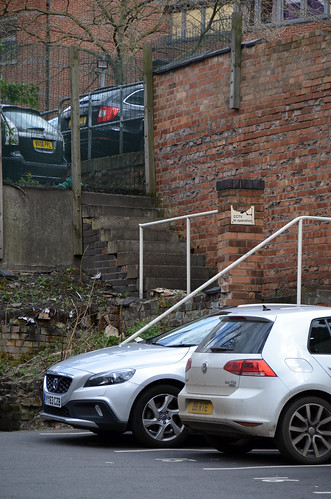car: (178, 296, 331, 464), (28, 309, 209, 439), (1, 100, 77, 185), (61, 86, 146, 152)
tree: (10, 1, 172, 89)
